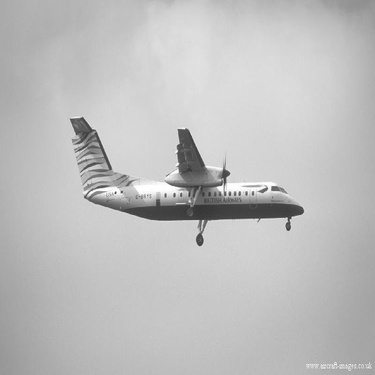airplane: (73, 117, 307, 248)
